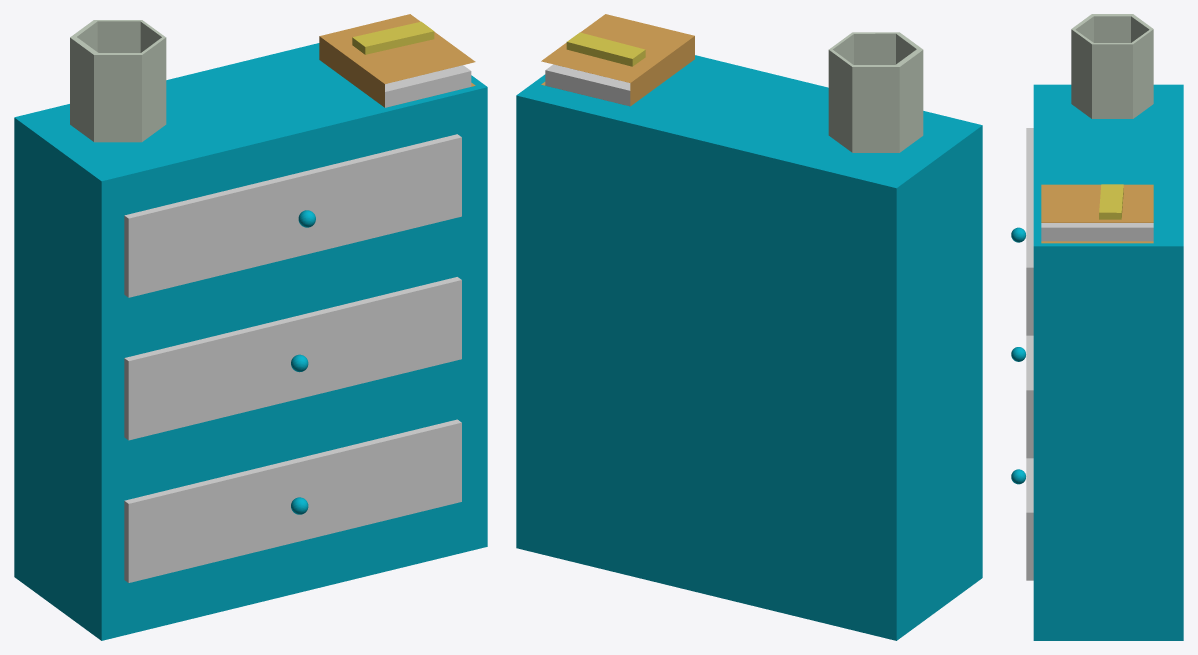
The model's file is Epic Blad.glb.
3 renders of one model, left to right at view 1: azimuth 30°, elevation 25°; view 2: azimuth 150°, elevation 25°; view 3: azimuth 270°, elevation 25°, orthographic. The views are drawn at different scales.
Parts seen in each view (by area): view 1: Mesh_Mesh_head_geo.001_lambert2SG.001; view 2: Mesh_Mesh_head_geo.001_lambert2SG.001; view 3: Mesh_Mesh_head_geo.001_lambert2SG.001.
Part boxes in pixels (bbox=[...]): Mesh_Mesh_head_geo.001_lambert2SG.001: bbox=[14, 14, 487, 640]; Mesh_Mesh_head_geo.001_lambert2SG.001: bbox=[516, 14, 982, 640]; Mesh_Mesh_head_geo.001_lambert2SG.001: bbox=[1011, 14, 1183, 640].
Bounding box in the file's own units: 51 × 70 × 23.
